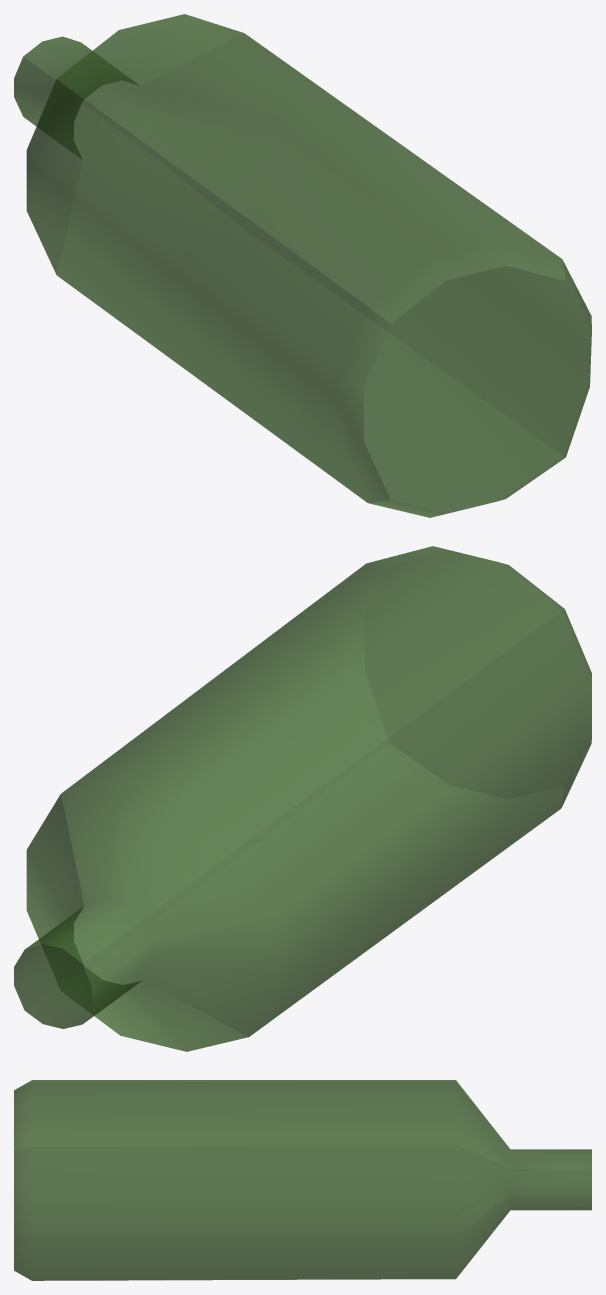
File: Botella.fbx
The picture shows the model from 3 angles, top to bottom: view 1: azimuth 30°, elevation 25°; view 2: azimuth 150°, elevation 25°; view 3: azimuth 270°, elevation 25°; orthographic projection. The views are drawn at different scales.
Visible parts, largest first — view 1: Botella; view 2: Botella; view 3: Botella.
Boxes of the visible parts, x1,y1,x2,y2 form: Botella: (14, 14, 591, 517); Botella: (14, 546, 591, 1051); Botella: (14, 1080, 591, 1280).
Size of the model in its own units: 1.35 by 1.32 by 3.91.
